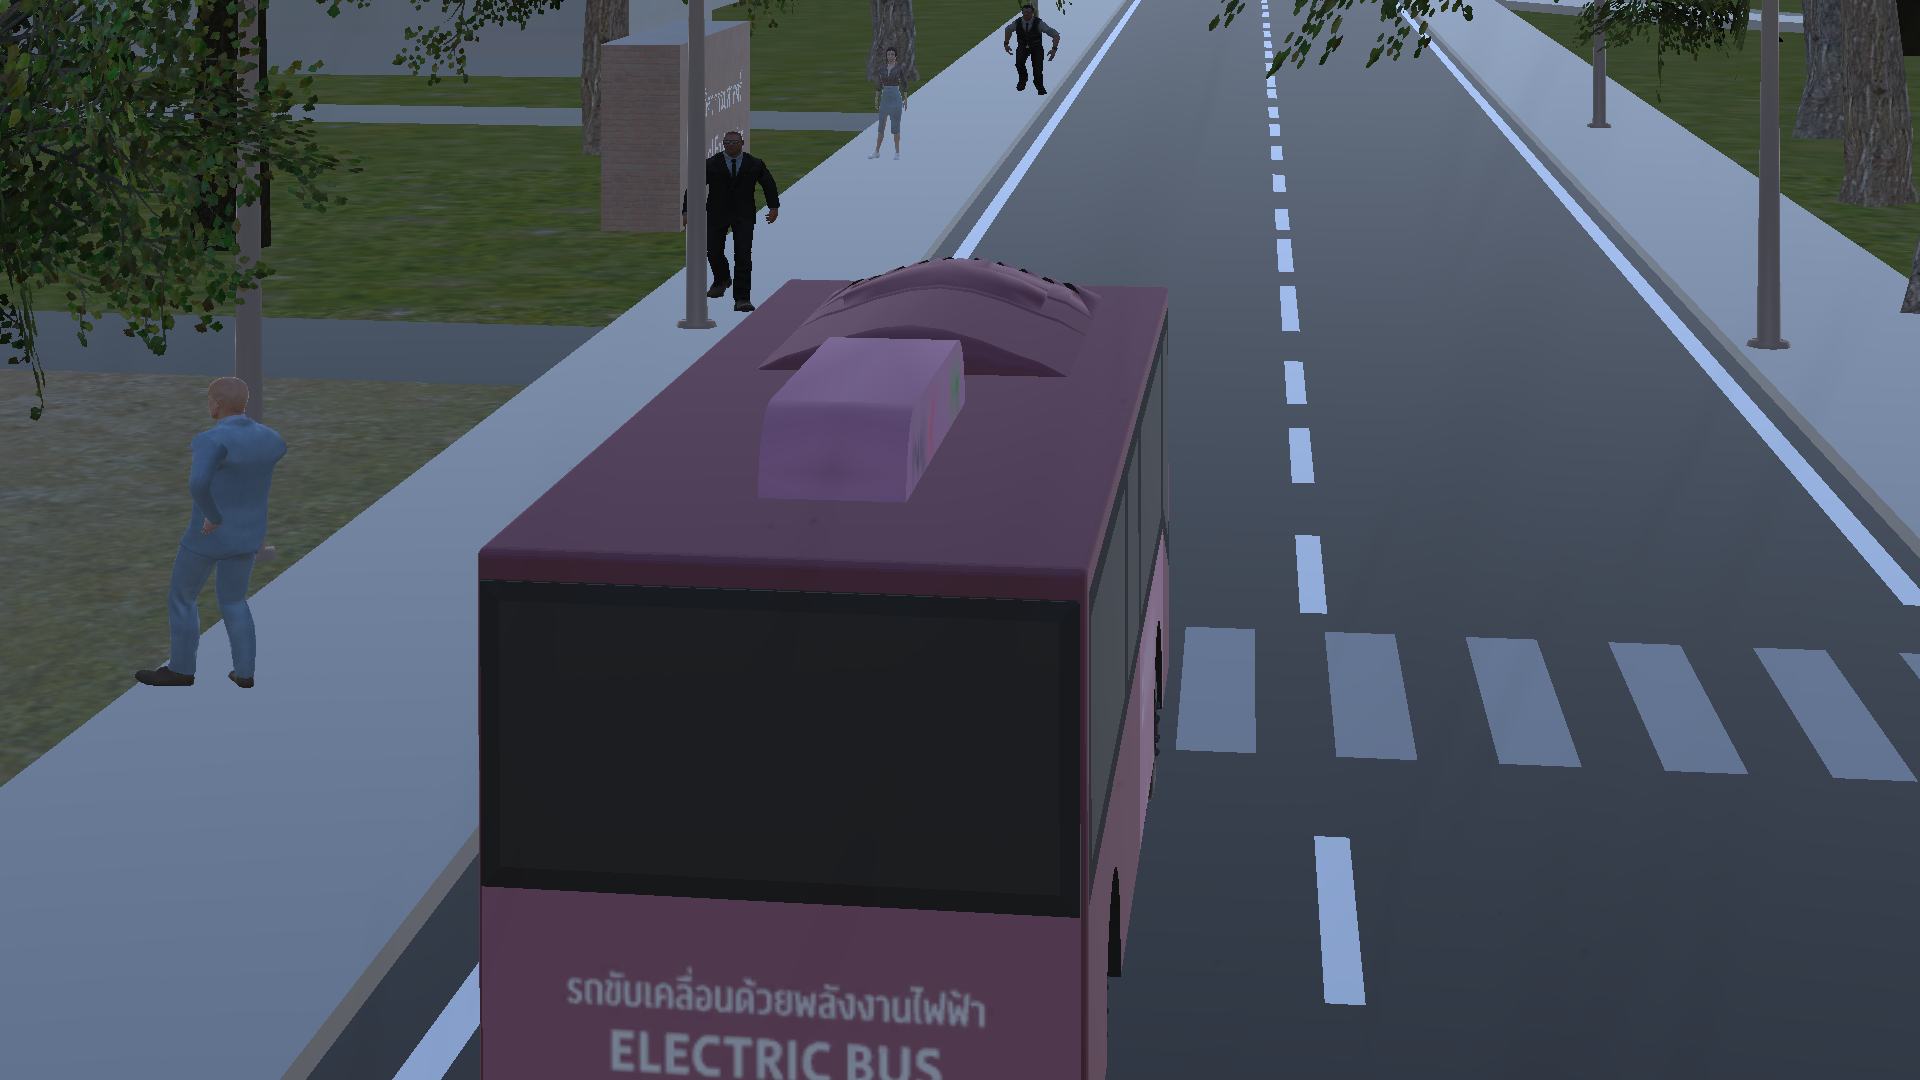pedestrian: (127, 368, 288, 730), (708, 129, 774, 318), (1000, 1, 1059, 120), (865, 44, 916, 163)
